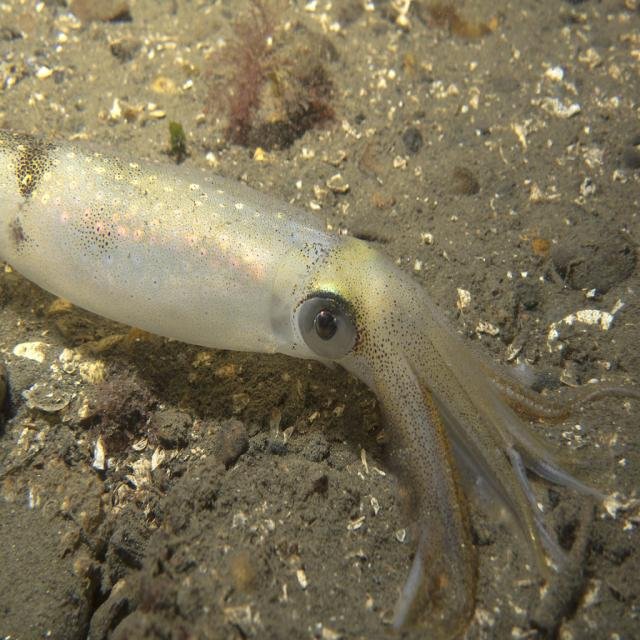SQUID: (0, 110, 632, 640)
